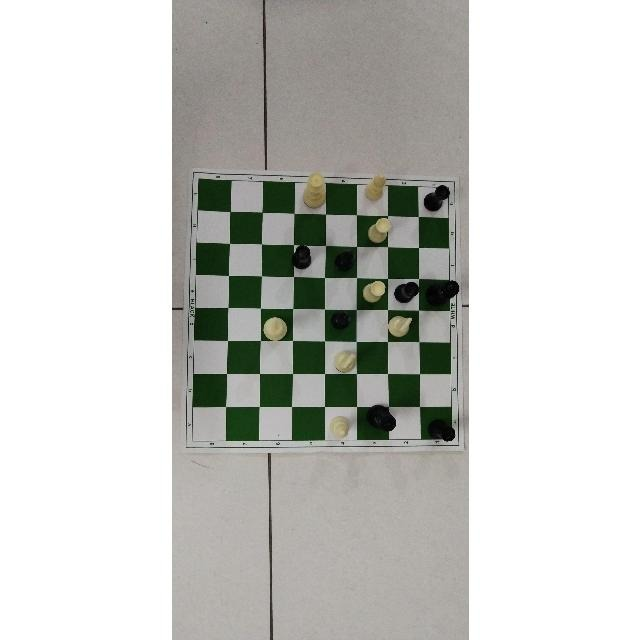black-bishop: (333, 248, 354, 272), (330, 309, 350, 328)
black-king: (365, 405, 396, 433)
black-queen: (425, 278, 459, 305)
black-rook: (421, 184, 449, 211), (426, 418, 455, 442), (394, 281, 418, 304), (290, 245, 311, 270)
white-bishop: (363, 174, 386, 200), (329, 416, 349, 438)
white-king: (261, 316, 286, 340)
white-knight: (332, 349, 355, 375), (388, 315, 412, 338)
white-queen: (302, 172, 325, 208)
white-rook: (366, 216, 390, 243), (361, 280, 384, 303)
